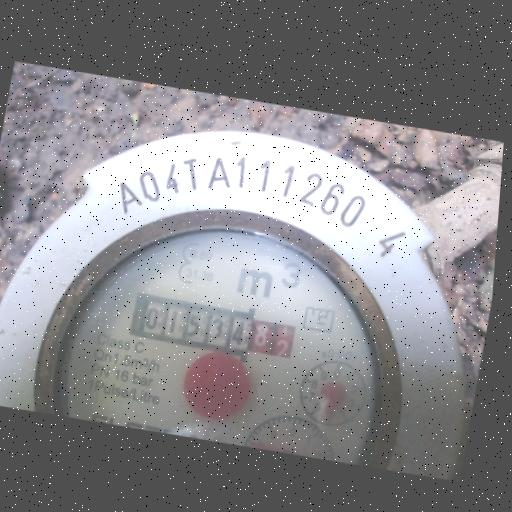0: (142, 299, 166, 334)
1: (164, 304, 188, 339)
2: (271, 321, 296, 358)
3: (204, 309, 230, 346)
4: (227, 314, 251, 351)
5: (184, 307, 208, 342)
8: (249, 318, 273, 355)
border_water_meter_number: (126, 284, 304, 371)
